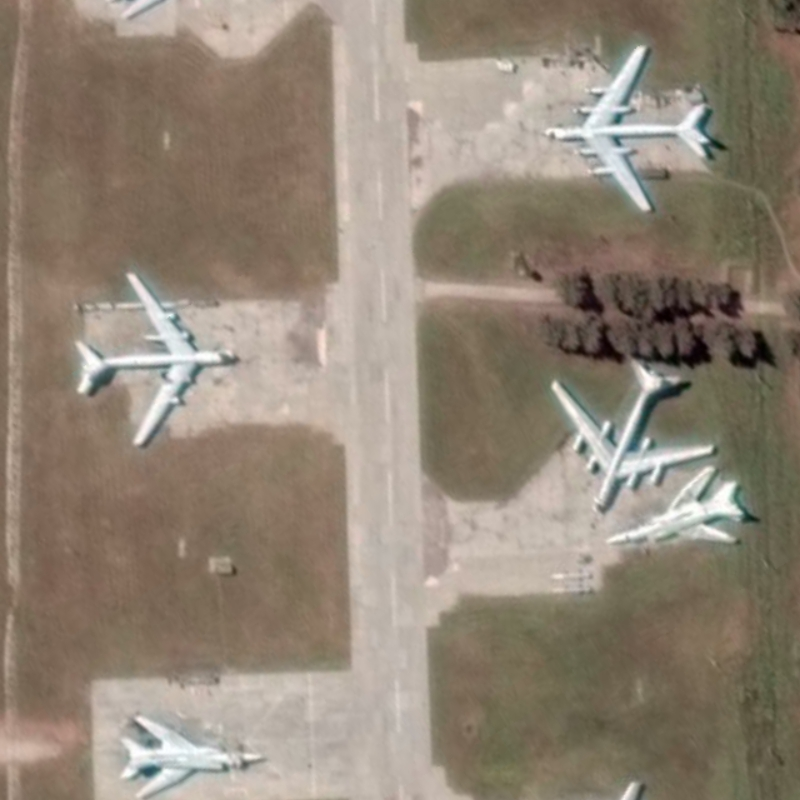A12: (117, 713, 265, 800), (604, 464, 747, 546)
A17: (71, 270, 239, 447), (542, 43, 713, 214), (549, 358, 716, 516)
